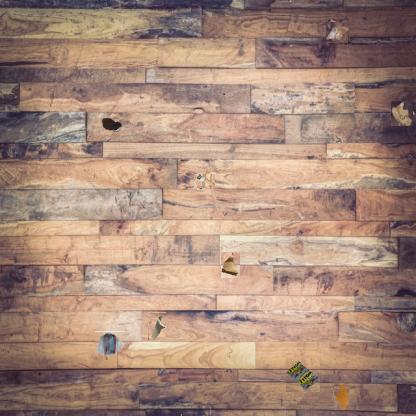dirty: (286, 358, 320, 392), (95, 331, 125, 356), (390, 101, 414, 125), (221, 252, 242, 278), (148, 312, 166, 340), (328, 20, 350, 42), (195, 172, 213, 190)
liquid: (333, 384, 349, 410), (101, 116, 123, 134)
